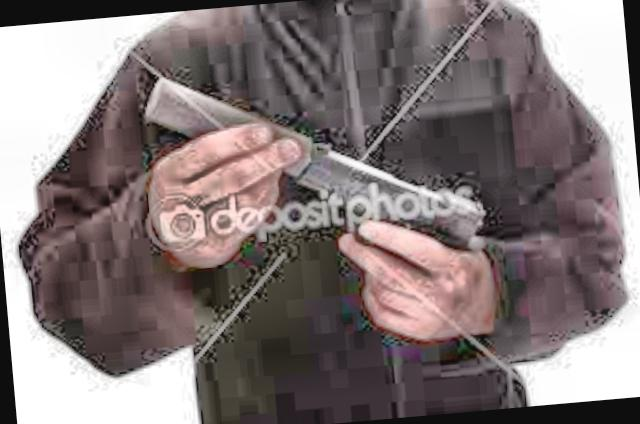pistol: (148, 47, 488, 305)
